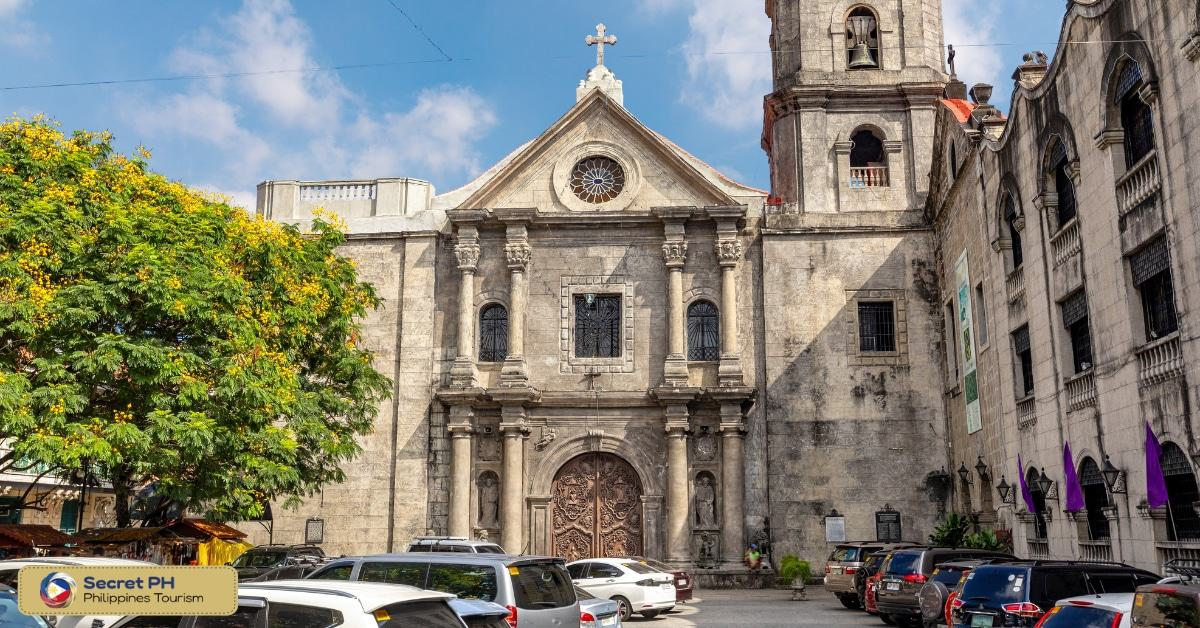Environmental Damage: (908, 249, 954, 313), (916, 173, 948, 237)
San Agustin Church: (425, 1, 968, 584)
